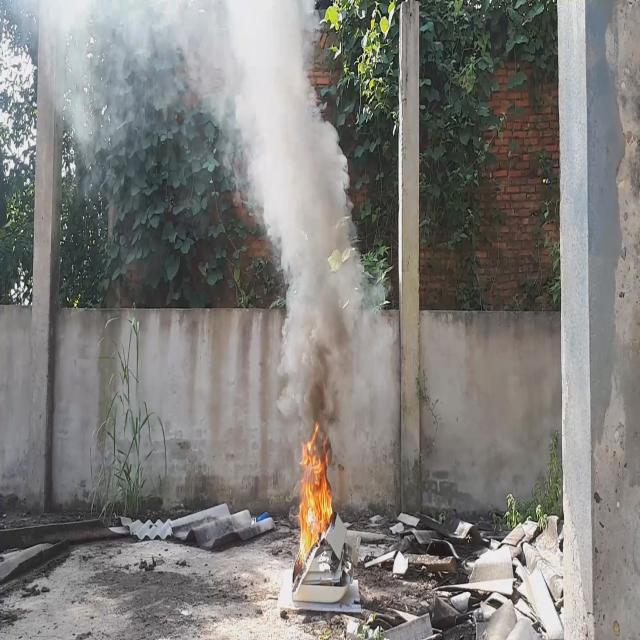Fire: (297, 421, 334, 572)
Smoke: (0, 0, 371, 469)
